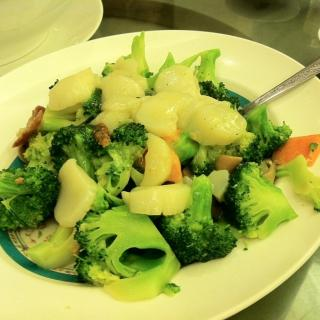Broccoli: (48, 88, 186, 302), (190, 101, 294, 177), (158, 172, 238, 263), (225, 163, 297, 239), (0, 164, 61, 232)
